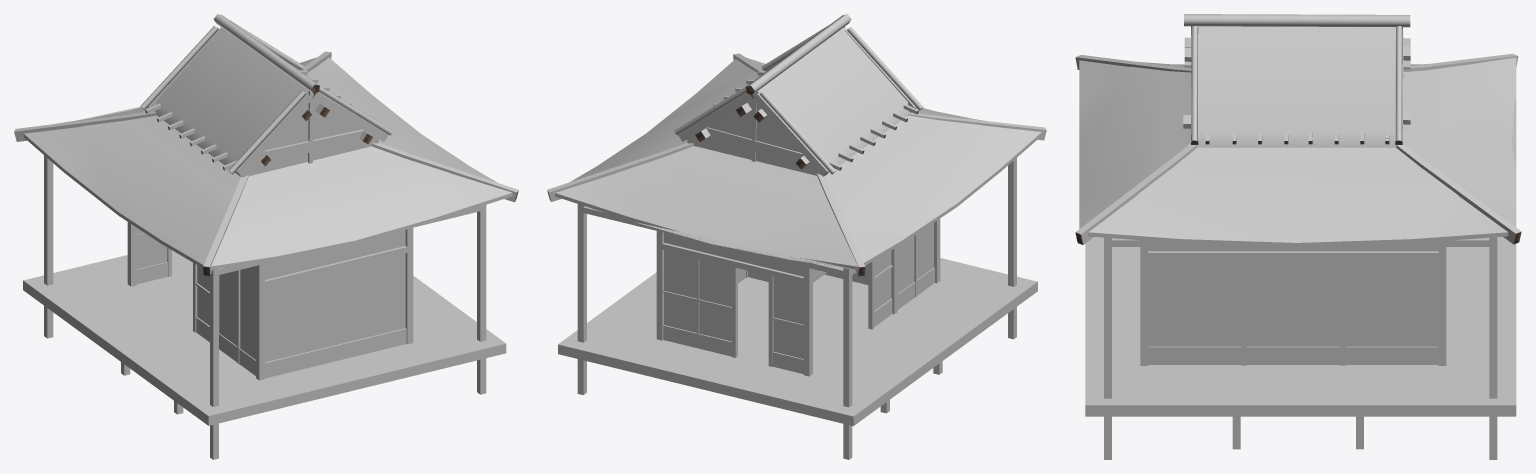
The model's file is building_08 lod1.fbx.
The picture shows the model from 3 angles, left to right: view 1: azimuth 30°, elevation 25°; view 2: azimuth 150°, elevation 25°; view 3: azimuth 270°, elevation 25°; orthographic projection. The views are drawn at different scales.
Parts seen in each view (by area): view 1: polySurface3150; view 2: polySurface3150; view 3: polySurface3150.
Part boxes in pixels (<box>): polySurface3150: <box>14,14,518,459</box>; polySurface3150: <box>547,14,1046,459</box>; polySurface3150: <box>1075,14,1521,459</box>.
Size of the model in its own units: 12.93 by 12.28 by 13.48.
